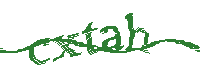a: (100, 21, 124, 54)
c: (29, 34, 52, 66)
h: (123, 12, 151, 56)
t: (81, 21, 100, 56)
x: (53, 33, 82, 60)
